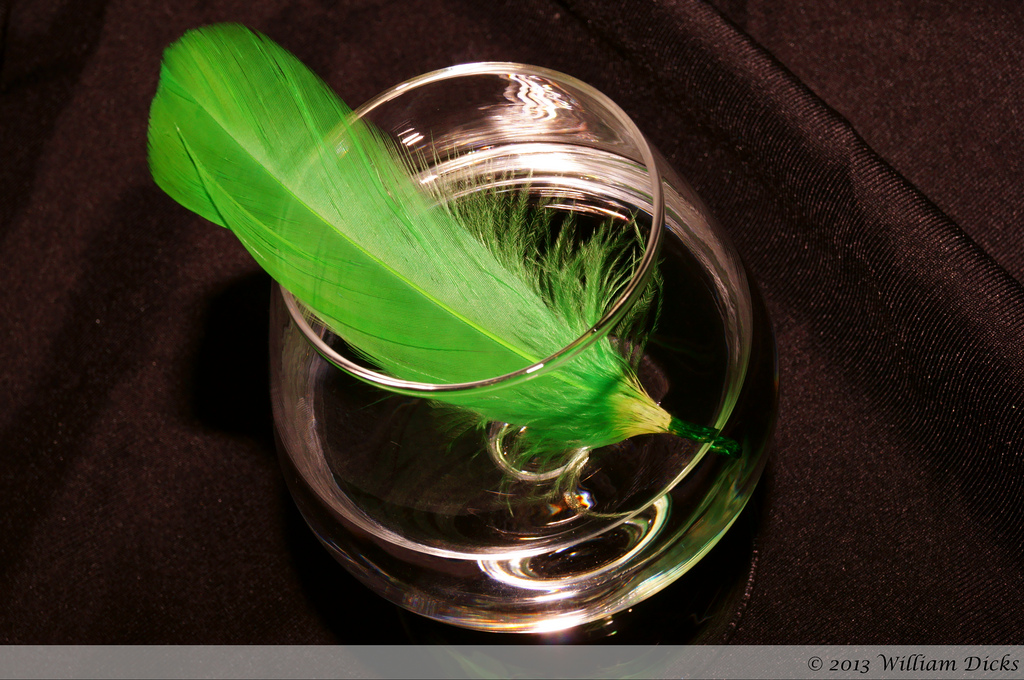glass of water: (240, 63, 773, 637)
